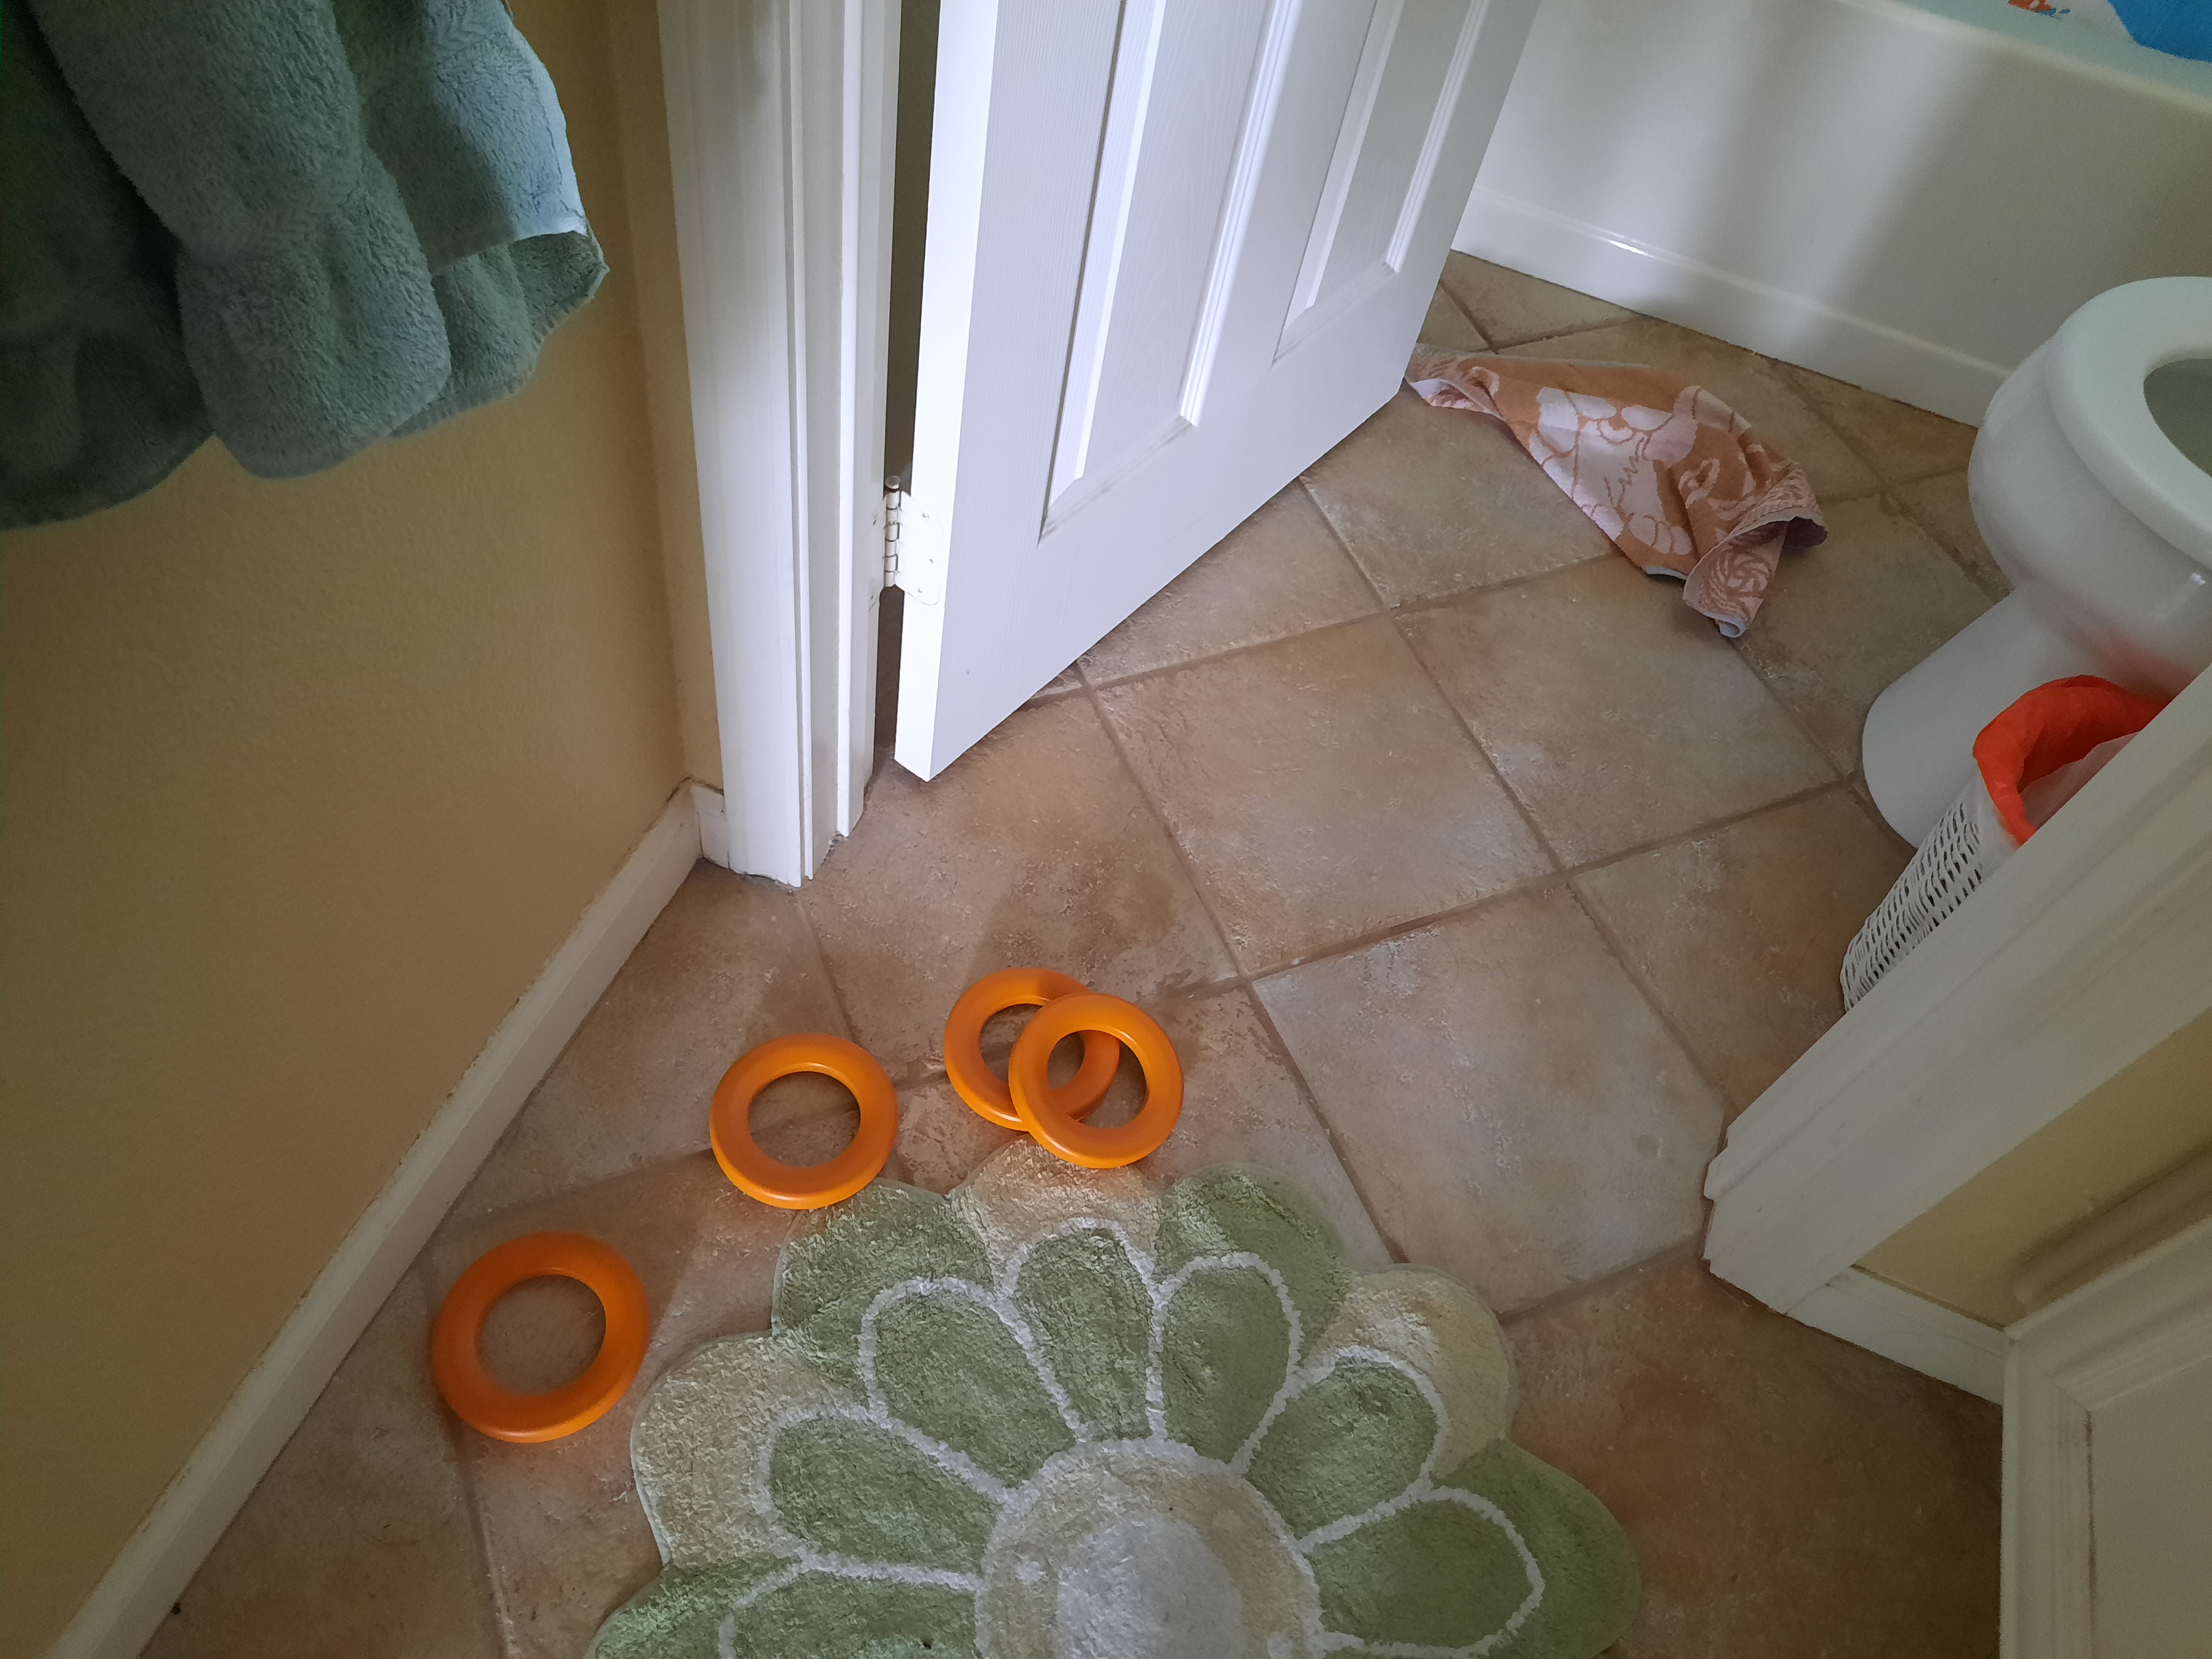OneStack: (437, 1241, 641, 1438), (702, 1033, 892, 1204), (1015, 999, 1179, 1168), (949, 969, 1094, 1124)
